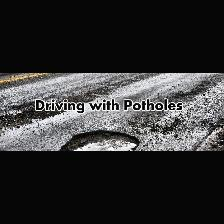pothole: (57, 130, 141, 150)
